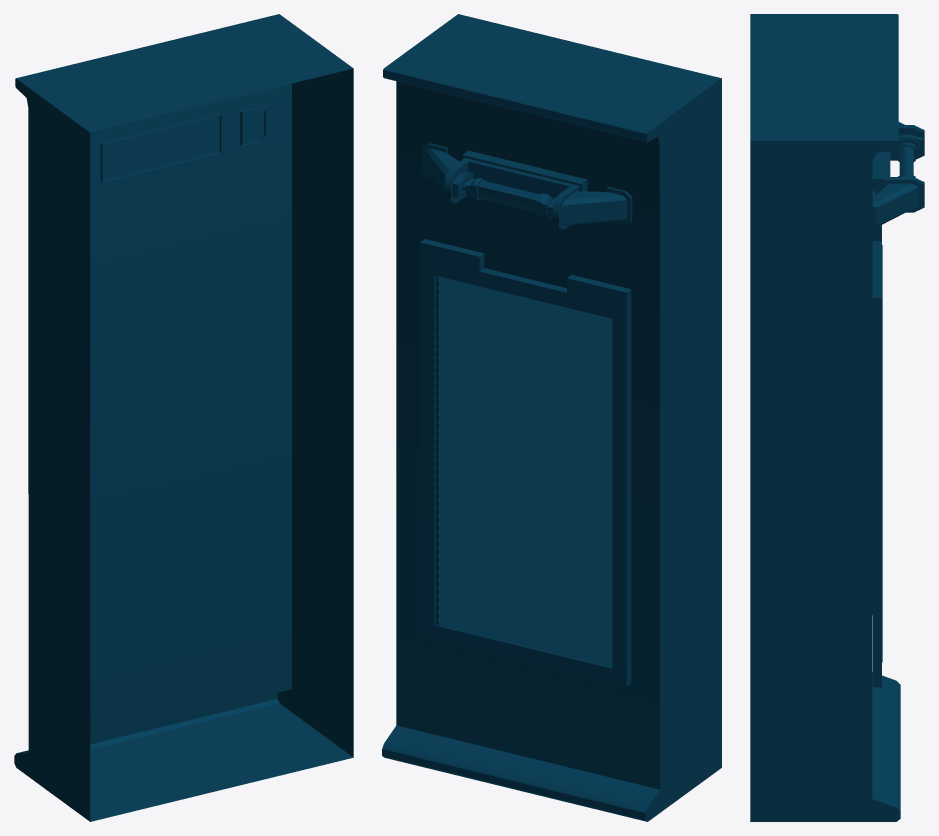
Rendered from pared13.fbx.
The picture shows the model from 3 angles, left to right: view 1: azimuth 30°, elevation 25°; view 2: azimuth 150°, elevation 25°; view 3: azimuth 270°, elevation 25°; orthographic projection.
Visible parts, largest first — view 1: 027; view 2: 027; view 3: 027.
Part boxes in pixels (box(x1,y1,x2,y2)): 027: box(14, 14, 353, 821); 027: box(382, 14, 721, 821); 027: box(750, 14, 924, 821).
Bounding box in the file's own units: 100 × 250 × 57.98.
